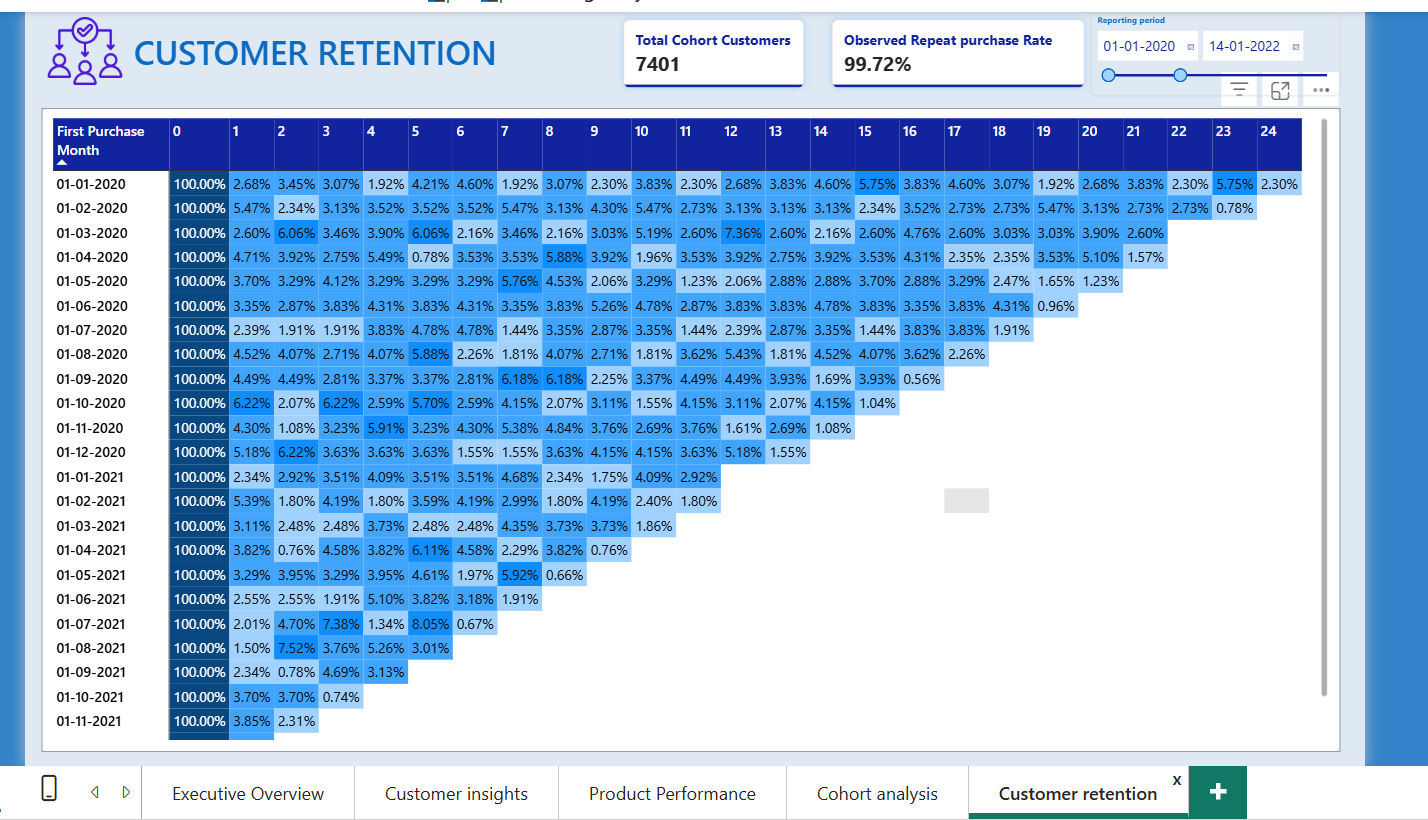

This screenshot's page, from the dashboard's own definition file:
{"tool":"powerbi","page":{"name":"Customer retention","canvas":[1920,1080],"ordinal":4},"visuals":[{"type":"cardVisual","fields":{"Data":["_Measures Table.Overall Retention %"]},"box":[1144.3,0,383.1,119.6],"z":0},{"type":"cardVisual","fields":{"Data":["_Measures Table.Total Cohort Customers"]},"box":[846.6,0,280.6,119.6],"z":2},{"type":"pivotTable","fields":{"Columns":["orders.Cohort Index"],"Rows":["customers.First Purchase Month"],"Values":["_Measures Table.Retention %"]},"box":[24.4,136.6,1859.1,922.3],"z":3},{"type":"slicer","fields":{"Values":["Dim_date.Date"]},"box":[1527.3,2,356.2,117.1],"z":4},{"type":"textbox","box":[102.5,24.4,624.6,73.2],"z":5},{"type":"image","box":[24.4,2.4,124.4,107.4],"z":6}]}

Visuals, with their boxes on the page's 1920x1080 design canvas (x1, y1, x2, y2). These are canvas units, not pixel positions in the 1428x820 screenshot, which may show the page scaled, cropped or inside an application window:
cardVisual - _Measures Table.Overall Retention %: detection(1144, 0, 1527, 120)
cardVisual - _Measures Table.Total Cohort Customers: detection(847, 0, 1127, 120)
pivotTable - orders.Cohort Index x customers.First Purchase Month: detection(24, 137, 1884, 1059)
slicer - Dim_date.Date: detection(1527, 2, 1884, 119)
textbox: detection(102, 24, 727, 98)
image: detection(24, 2, 149, 110)
